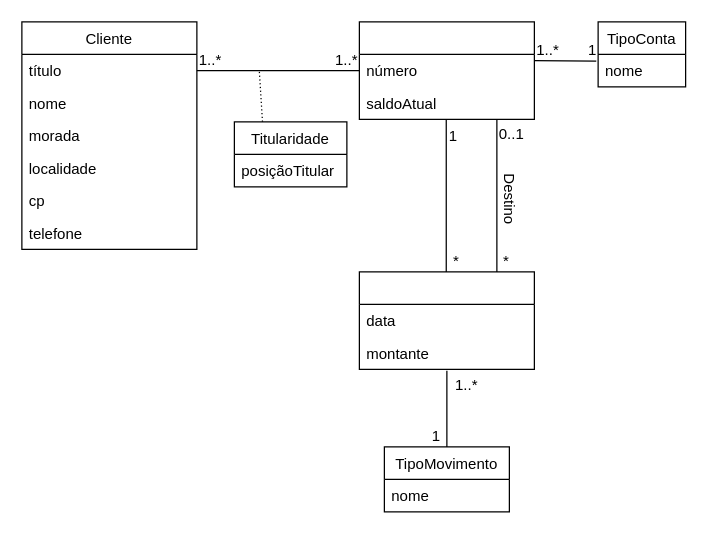
This 708x538 diagram has some shape labels left out. Each missing label, with the box of its shape:
ContaBancaria: (358, 21, 534, 119)
Movimento: (358, 271, 534, 369)
